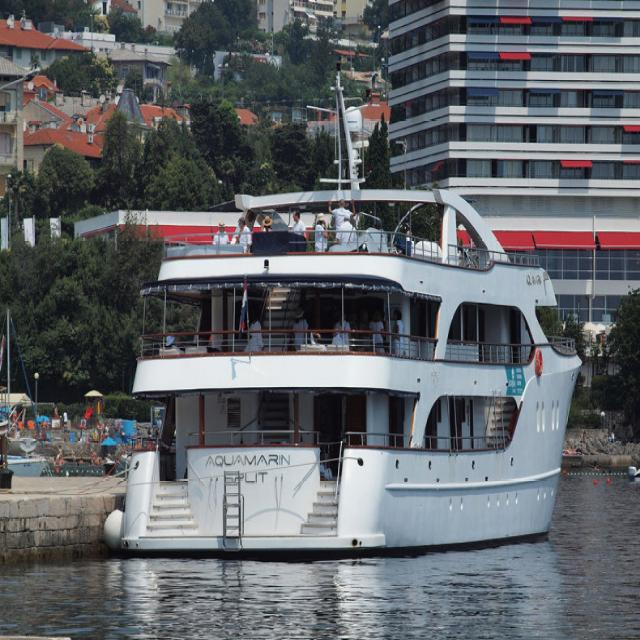cruises: (121, 94, 578, 558)
